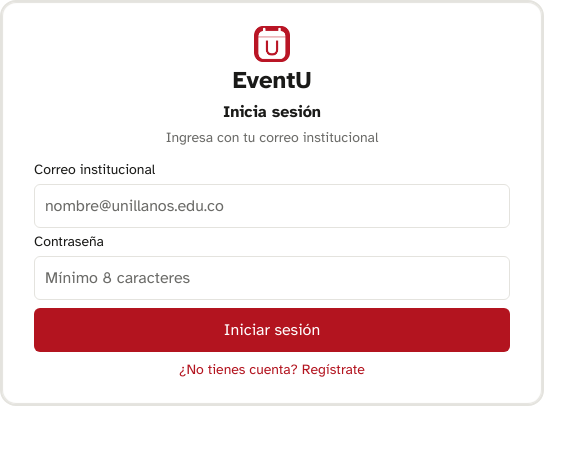
Test: FormularioLogin: sesión y redirección › muestra el error de autenticación y no guarda una sesión
Type "admin@unillanos.edu.co" into the field labelled "Correo institucional".
click(272, 206); type("admin@unillanos.edu.co")  # box left=34, top=184, right=510, bottom=228
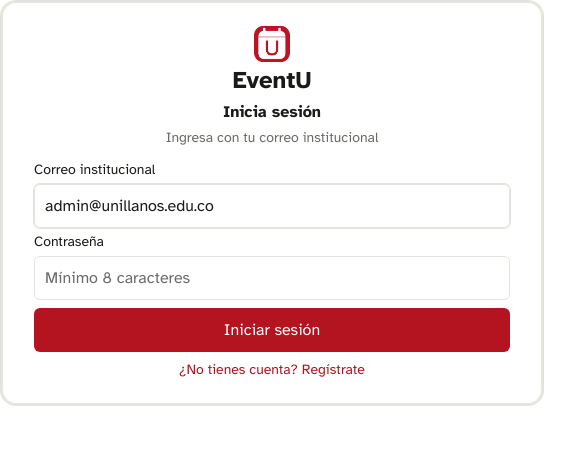
Type "password-segura" into the password field labelled "Contraseña".
click(272, 278); type("password-segura")  # box left=34, top=256, right=510, bottom=300
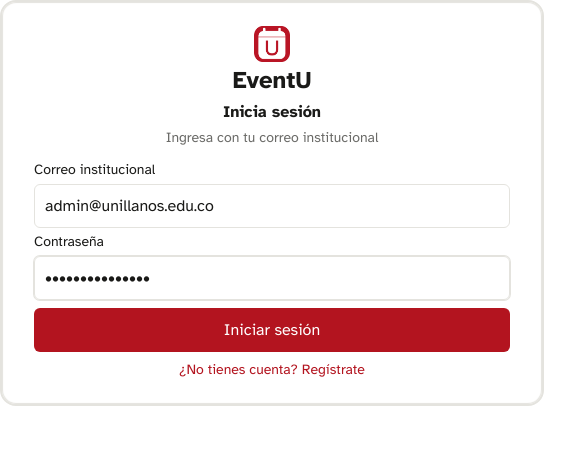
Click the button "Iniciar sesión".
click(272, 330)  # box left=34, top=308, right=510, bottom=352
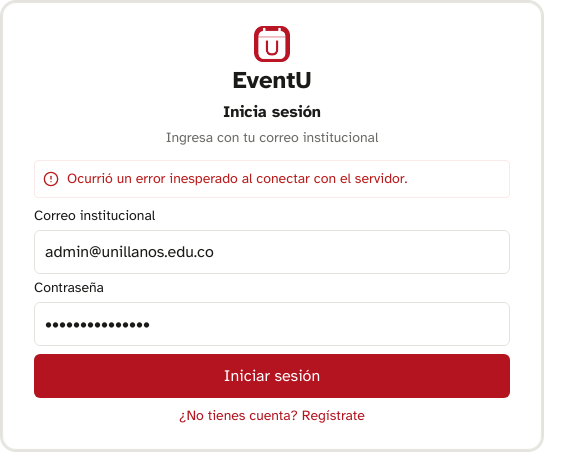
expect the message reads "Ocurrió un error inesperado al conectar con el servidor.": met, box left=67, top=170, right=407, bottom=187
